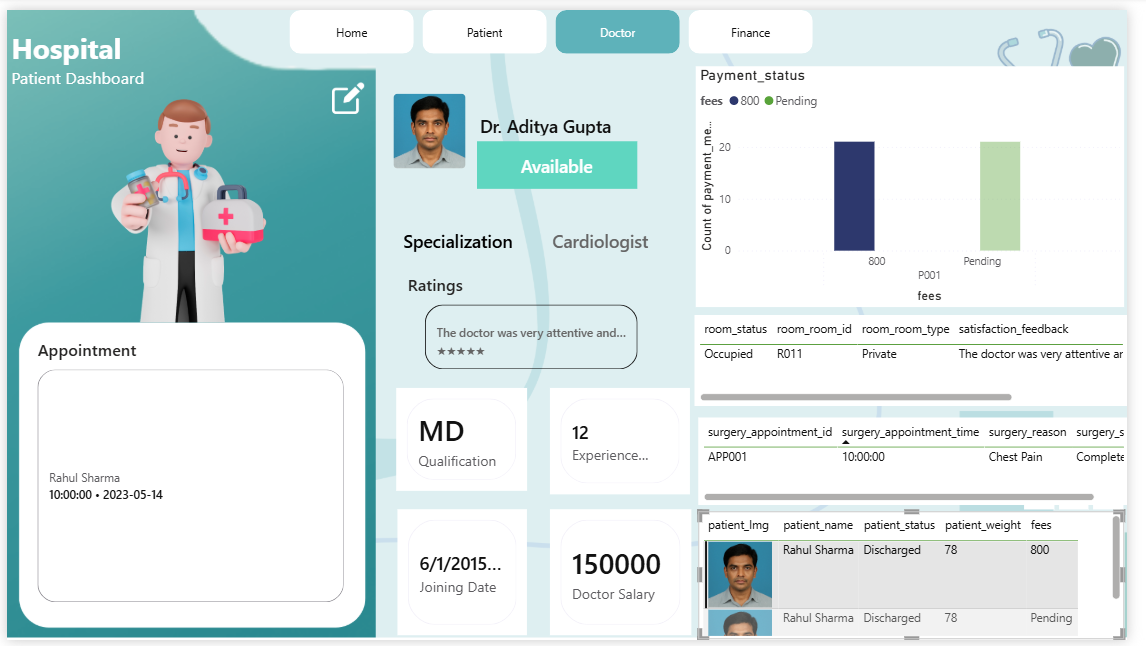

This screenshot's page, from the dashboard's own definition file:
{"tool":"powerbi","page":{"name":"Doctor","canvas":[1280,720],"ordinal":2},"visuals":[{"type":"cardVisual","fields":{"Data":["Min(patient_info.doctor_salary)"]},"box":[615.3,565.8,171.3,154.4],"z":0},{"type":"cardVisual","fields":{"Data":["Min(patient_info.doctor_qualification)"]},"box":[440.4,427.1,159.3,127.9],"z":1000},{"type":"cardVisual","fields":{"Data":["Min(patient_info.doctor_joining_date)"]},"box":[440.9,565.3,158.9,154.9],"z":2000},{"type":"cardVisual","fields":{"Data":["Min(patient_info.doctor_experience_years)"]},"box":[615.3,427.1,170.1,131.5],"z":3000},{"type":"image","box":[61.7,76.7,280,280],"z":4000},{"type":"textbox","box":[0,16.7,225,96.7],"z":5000},{"type":"image","box":[371.7,70,36.7,61.7],"z":6000},{"type":"cardVisual","fields":{"Data":["Min(patient_info.doctor_Img)"]},"box":[412.9,50,334.3,177.1],"z":7000},{"type":"cardVisual","fields":{"Data":["Min(patient_info.doctor_name)"]},"box":[490,101.4,251.4,59.3],"z":8000},{"type":"shape","box":[453.3,242.3,126.6,40.6],"z":9000},{"type":"cardVisual","fields":{"Data":["Min(patient_info.doctor_availability)"]},"box":[537.7,150,182.9,54.7],"z":10000},{"type":"pageNavigator","box":[323.3,0,600,50],"z":11000},{"type":"advancedSlicerVisual","title":"Appointment","fields":{"Values":["appointments.Appointment_Time_Date"]},"box":[30,375,360,306.7],"z":12000},{"type":"advancedSlicerVisual","title":"Ratings","fields":{"Values":["patient_info.satisfaction_feedback"]},"box":[453.3,301.7,293.8,114.1],"z":14000},{"type":"cardVisual","fields":{"Data":["Min(patient_info.doctor_specialization)"]},"box":[579.9,228.2,196.9,68.8],"z":15000},{"type":"tableEx","fields":{"Values":["patient_info.patient_Img","patient_info.patient_name","patient_info.patient_status","patient_info.patient_weight","appointments.fees"]},"box":[790,572.9,487.1,147.1],"z":16000},{"type":"clusteredColumnChart","title":" Payment_status","fields":{"Category":["bills.patient_id","appointments.fees"],"Y":["CountNonNull(bills.payment_method)"],"Series":["appointments.fees"]},"box":[786.4,64.9,489.9,275.4],"z":17000},{"type":"tableEx","fields":{"Values":["patient_info.surgery_appointment_id","patient_info.surgery_appointment_time","patient_info.surgery_reason","patient_info.surgery_status"]},"box":[789.6,465.7,491,100],"z":18000},{"type":"tableEx","fields":{"Values":["patient_info.room_status","patient_info.room_room_id","patient_info.room_room_type","patient_info.satisfaction_feedback"]},"box":[785.4,348.7,494.6,103.8],"z":19000}]}

Visuals, with their boxes in screenshot pixels (x1, y1, x2, y2), scaled from the page's 1280x720 canvas onto the 1146x646 screenshot:
cardVisual - Min(patient_info.doctor_salary): left=551, top=508, right=704, bottom=645
cardVisual - Min(patient_info.doctor_qualification): left=394, top=383, right=537, bottom=498
cardVisual - Min(patient_info.doctor_joining_date): left=395, top=507, right=537, bottom=645
cardVisual - Min(patient_info.doctor_experience_years): left=551, top=383, right=703, bottom=501
image: left=55, top=69, right=306, bottom=320
textbox: left=0, top=15, right=201, bottom=102
image: left=333, top=63, right=366, bottom=118
cardVisual - Min(patient_info.doctor_Img): left=370, top=45, right=669, bottom=204
cardVisual - Min(patient_info.doctor_name): left=439, top=91, right=664, bottom=144
shape: left=406, top=217, right=519, bottom=254
cardVisual - Min(patient_info.doctor_availability): left=481, top=135, right=645, bottom=184
pageNavigator: left=289, top=0, right=827, bottom=45
"Appointment" advancedSlicerVisual: left=27, top=336, right=349, bottom=612
"Ratings" advancedSlicerVisual: left=406, top=271, right=669, bottom=373
cardVisual - Min(patient_info.doctor_specialization): left=519, top=205, right=695, bottom=266
tableEx - patient_info.patient_Img x patient_info.patient_name: left=707, top=514, right=1143, bottom=645
" Payment_status" clusteredColumnChart: left=704, top=58, right=1143, bottom=305
tableEx - patient_info.surgery_appointment_id x patient_info.surgery_appointment_time: left=707, top=418, right=1145, bottom=508
tableEx - patient_info.room_status x patient_info.room_room_id: left=703, top=313, right=1145, bottom=406
